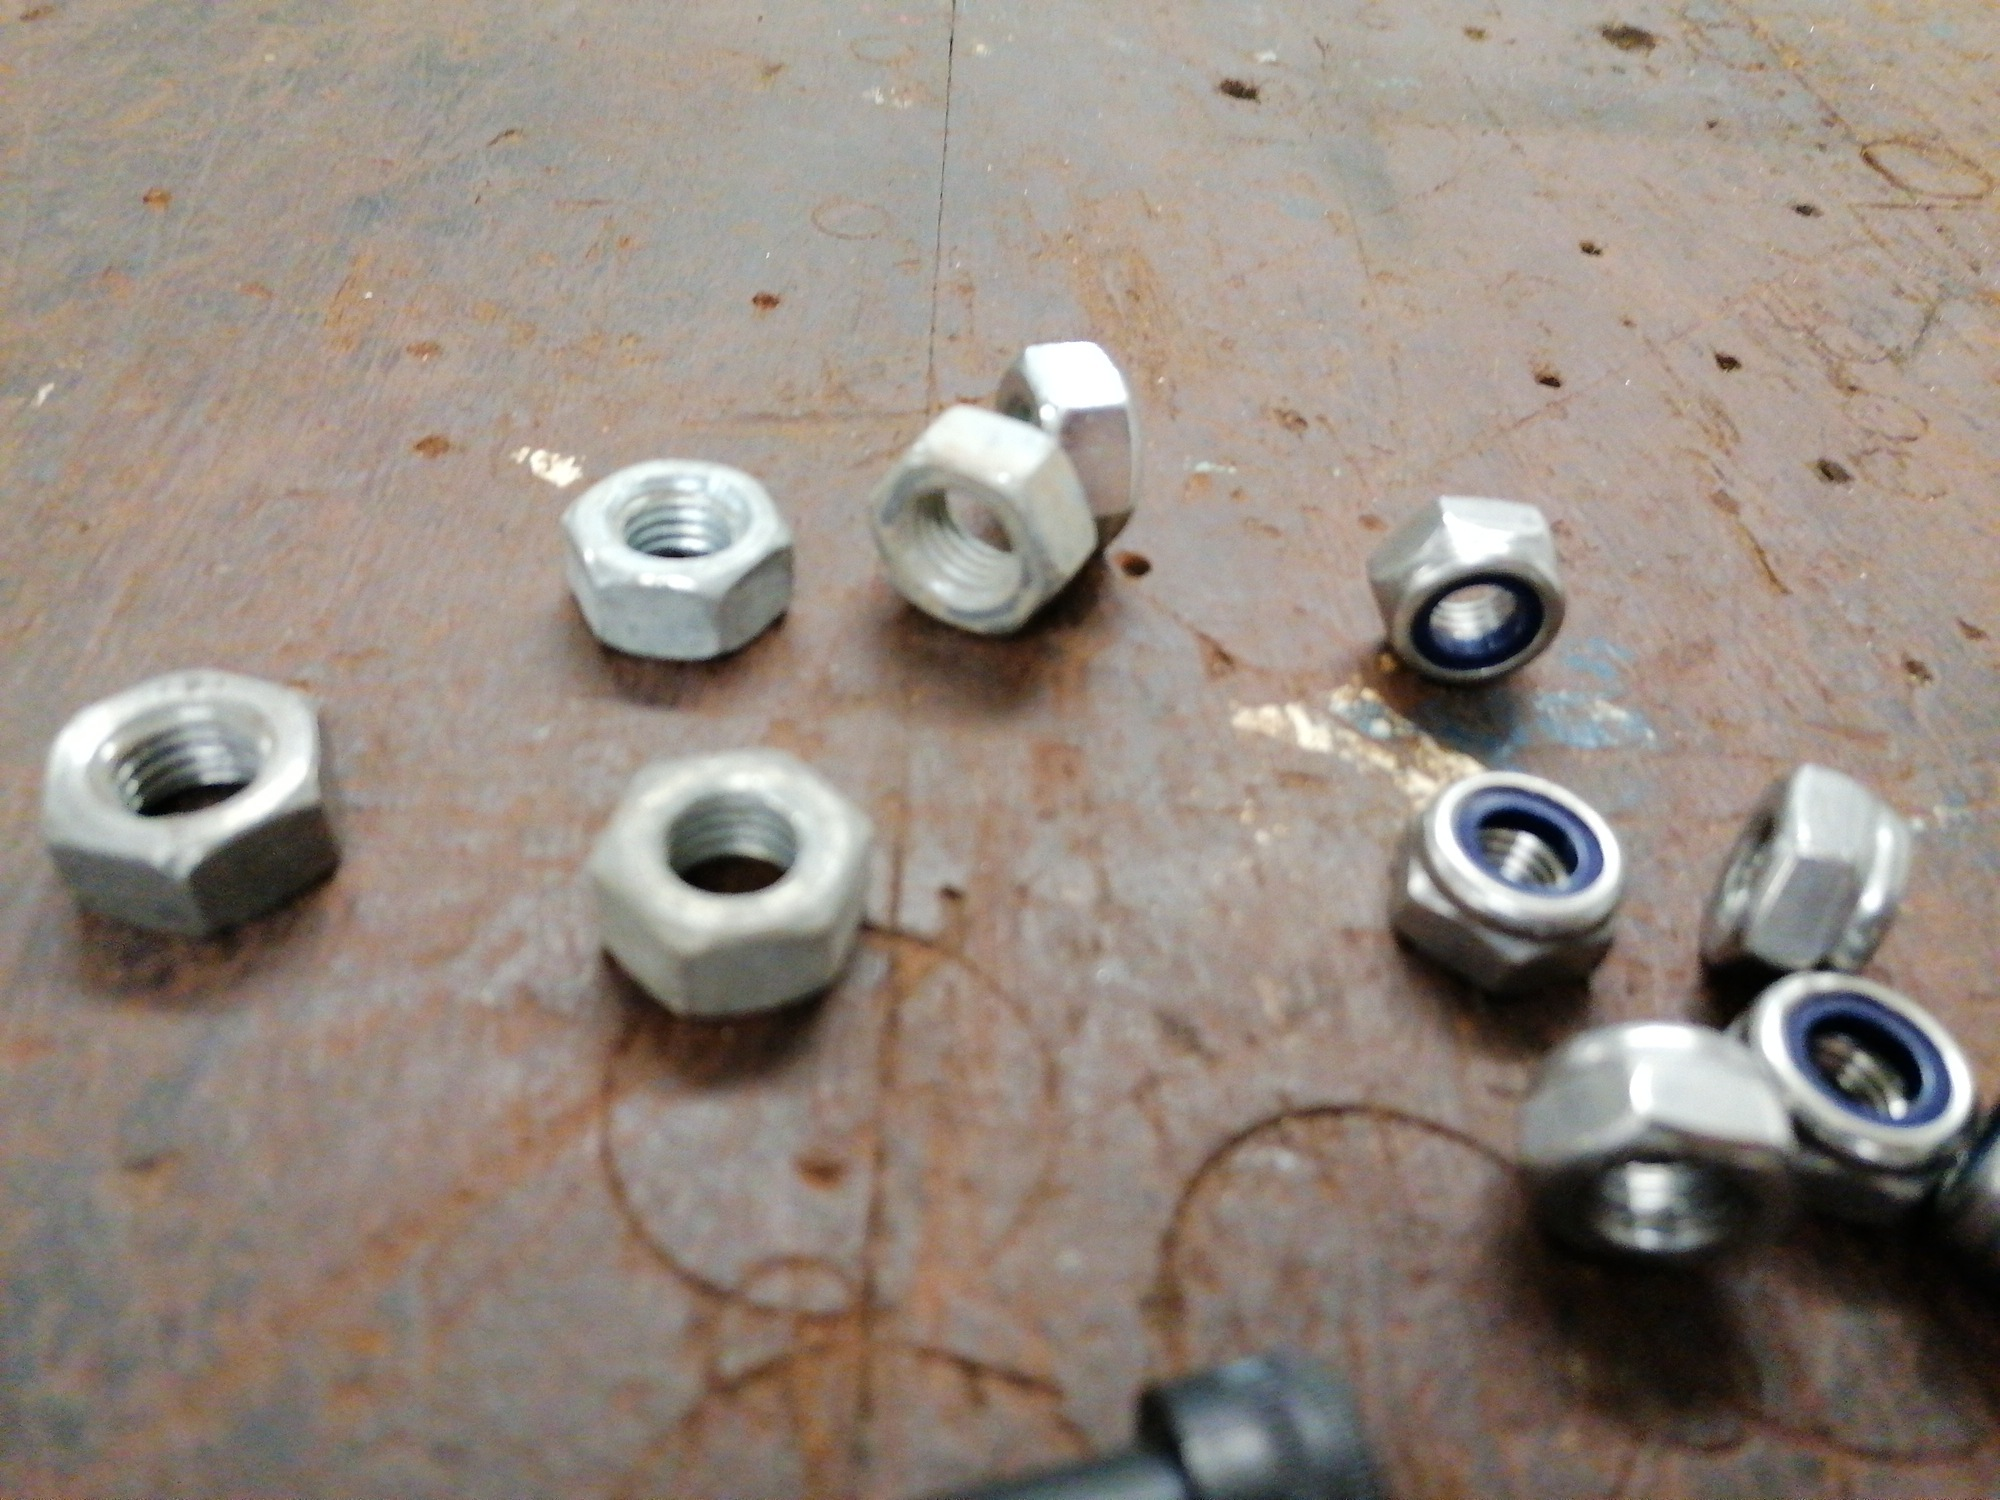bolt: (923, 1346, 1387, 1500)
nut: (39, 662, 343, 941), (584, 742, 877, 1021), (1513, 1019, 1805, 1283), (1717, 967, 1973, 1245), (863, 402, 1099, 641), (1391, 766, 1630, 996), (553, 454, 797, 663), (1698, 763, 1913, 999), (1364, 492, 1572, 689), (994, 337, 1143, 559), (1934, 1087, 1998, 1272)
